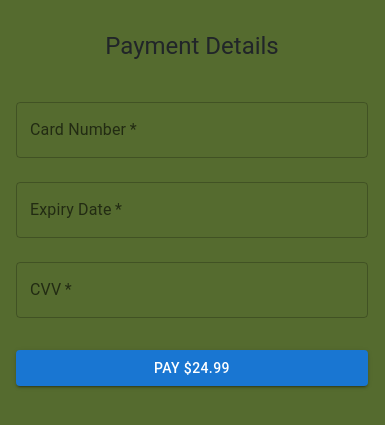
Scenario: Payment Flow › Payment Form › should display error for invalid card
The image size is (385, 425).
In the field labelled "Card Number *": point(192, 130) [16,102,368,158], type "1111111111111111"
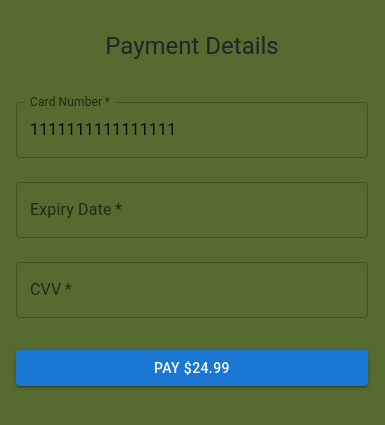
In the field labelled "Expiry Date *": point(192, 210) [16,182,368,238], type "12/25"
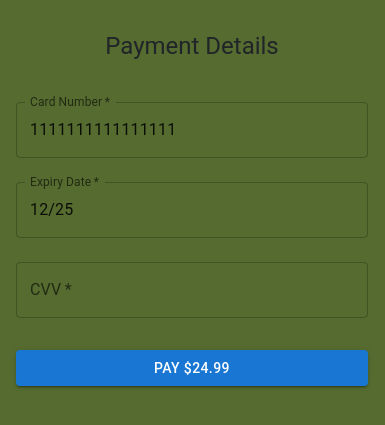
In the password field labelled "CVV *": point(192, 290) [16,262,368,318], type "123"
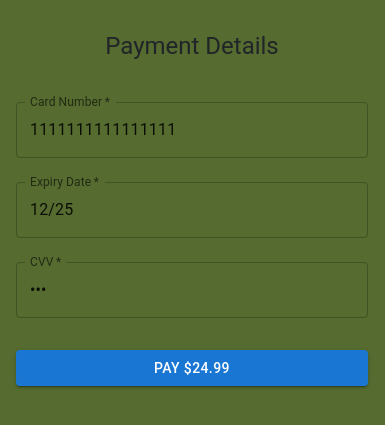
Click the button "Pay $24.99": point(192, 368) [16,350,368,386]
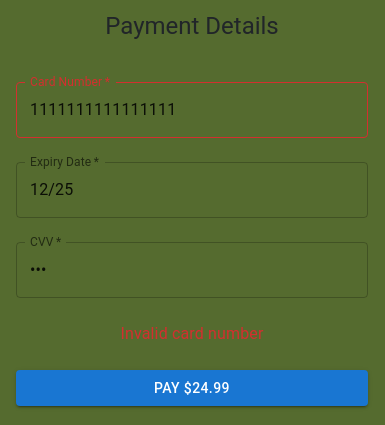
expect the text "Invalid card number" is shown: met, box [120,324,264,343]
